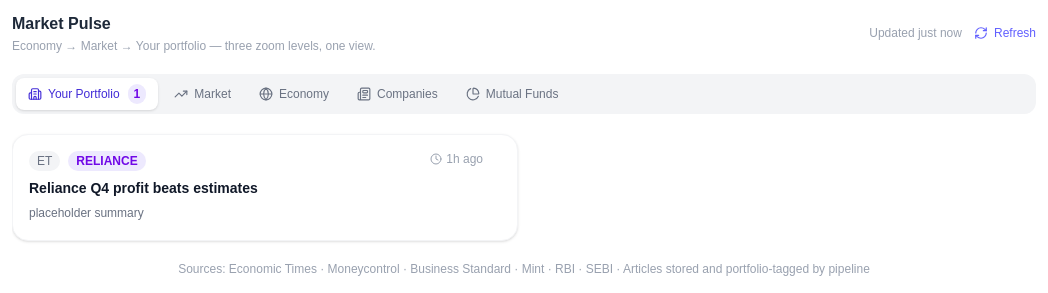
Test: NewsPanel › switches to Economy tab and shows relevant article
# Click Economy tab button
Click the button "Economy". click: (294, 94)
box: [247,78,341,110]
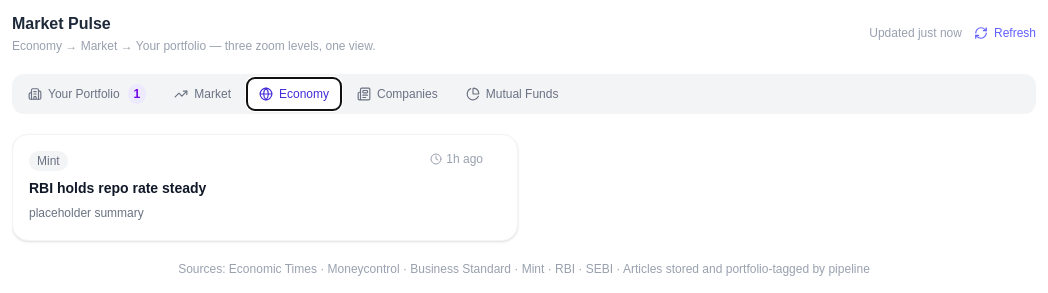
Result: the text "RBI holds repo rate steady" is shown at [29,180,206,196]
